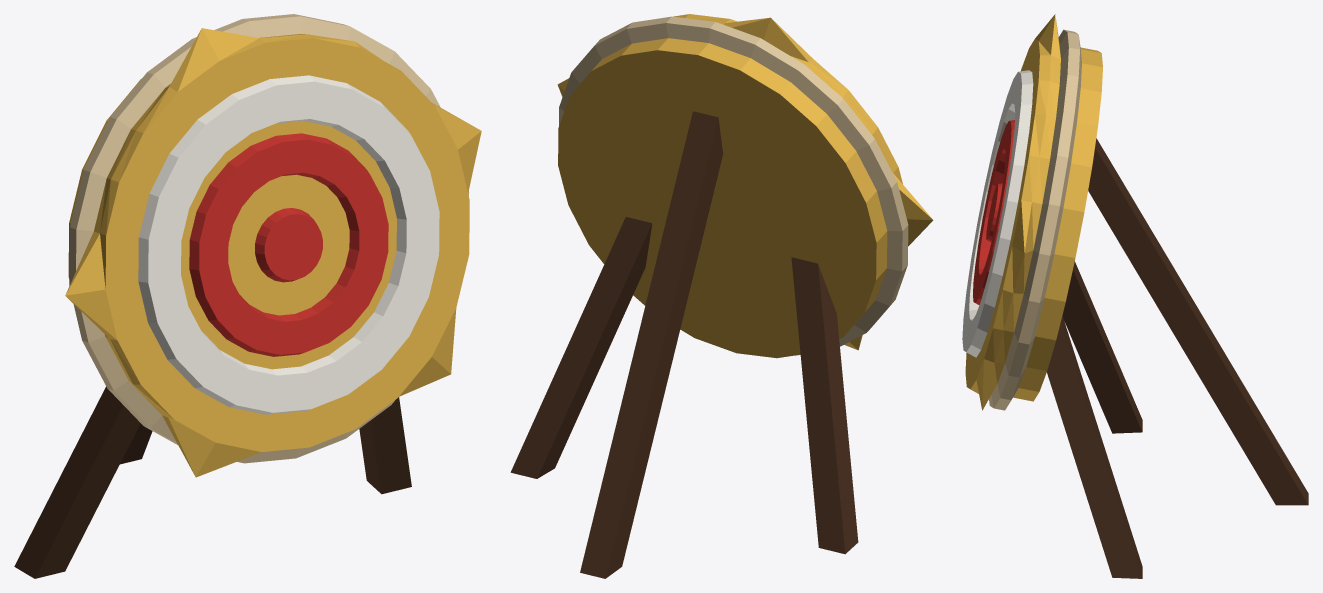
The model's file is straw-target.glb.
3 views of the same model, side by side, from view 1: azimuth 30°, elevation 25°; view 2: azimuth 150°, elevation 25°; view 3: azimuth 270°, elevation 25° (orthographic). The views are drawn at different scales.
Parts seen in each view (by area): view 1: Straw, RingsWhite, RingsRed, Rope, Stand; view 2: Straw, Stand, Rope; view 3: Stand, Straw, Rope, RingsWhite, RingsRed.
Boxes of the visible parts, left/top/right/bottom form: Straw: left=65, top=28, right=481, bottom=477; RingsWhite: left=138, top=75, right=439, bottom=414; RingsRed: left=189, top=133, right=388, bottom=356; Rope: left=69, top=14, right=469, bottom=463; Stand: left=14, top=386, right=411, bottom=578; Straw: left=557, top=14, right=933, bottom=358; Stand: left=510, top=111, right=858, bottom=578; Rope: left=559, top=16, right=908, bottom=355; Stand: left=1047, top=138, right=1308, bottom=578; Straw: left=965, top=14, right=1102, bottom=410; Rope: left=989, top=29, right=1081, bottom=410; RingsWhite: left=962, top=70, right=1033, bottom=357; RingsRed: left=973, top=120, right=1014, bottom=304.
Size of the model in its own units: 5.81 by 7.12 by 4.83.
